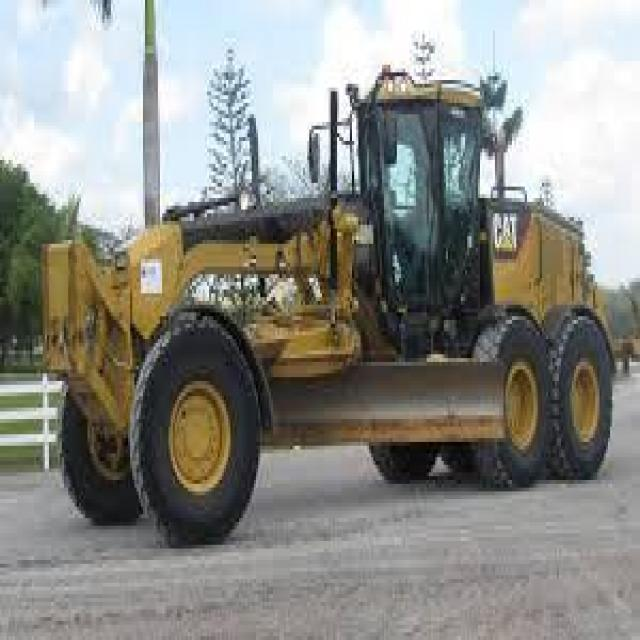Grader: (34, 65, 617, 545)
